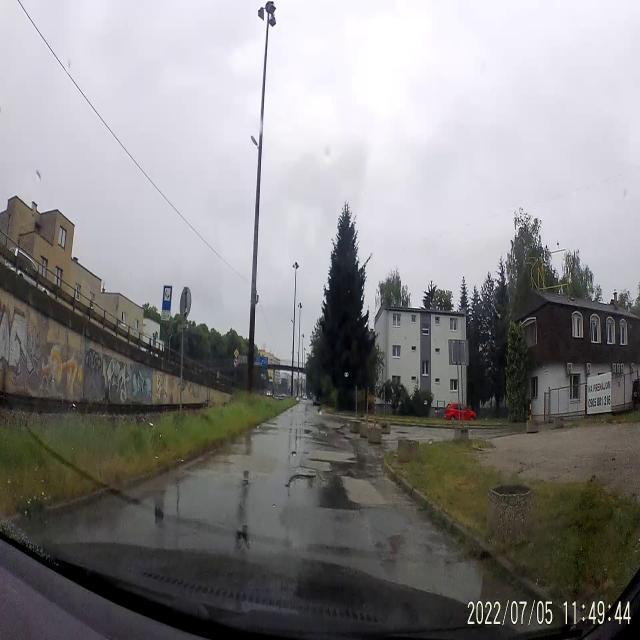Pothole: (286, 471, 328, 493), (292, 464, 323, 472), (301, 449, 310, 456)
